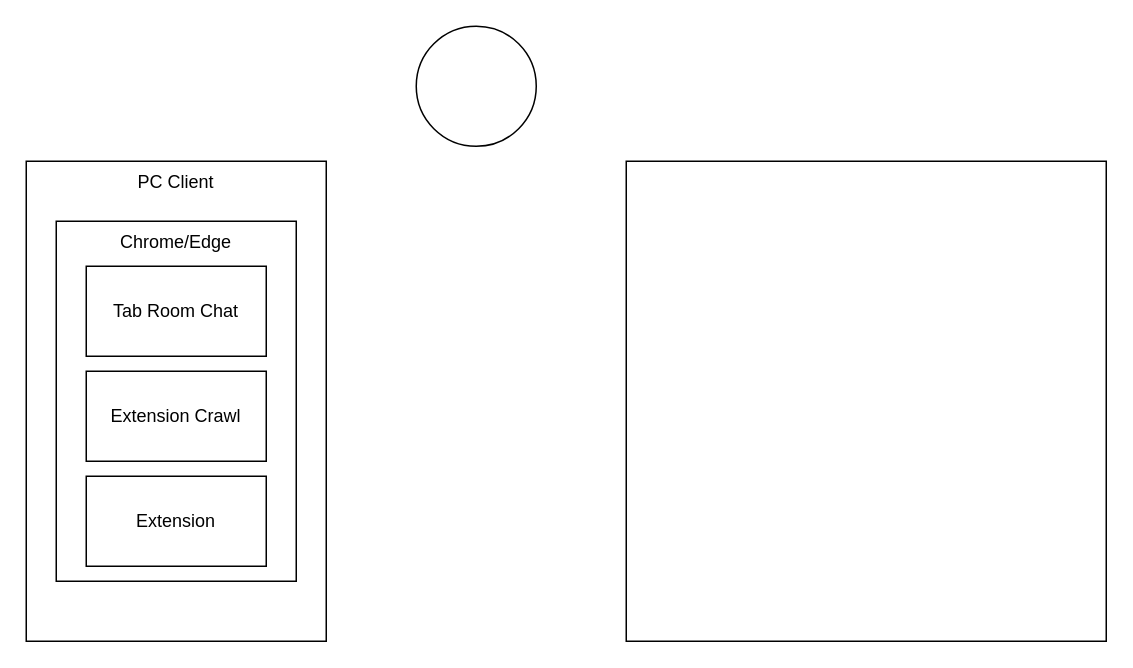
This 1133x668 diagram has some shape labels left out. The centre of each missing label's shape, as x and y in pixels:
"jgf" goes at point 475,85.
"Server" goes at point 865,400.
